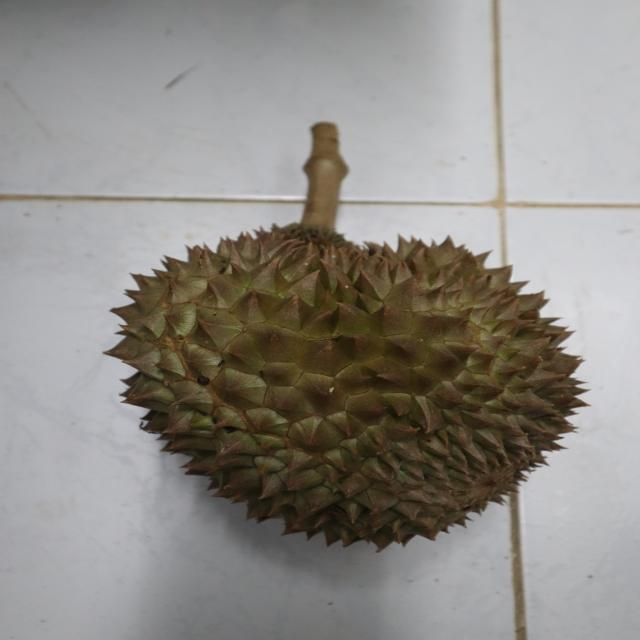mature: (98, 219, 591, 552)
